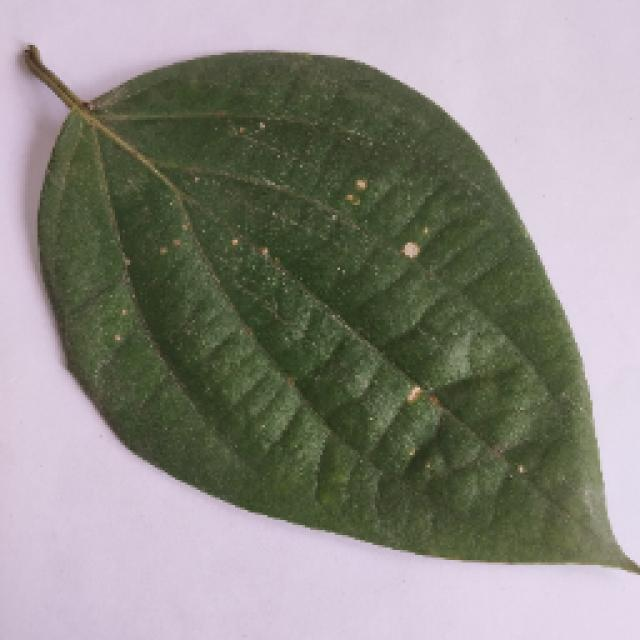pollu-disease: (12, 52, 628, 590)
